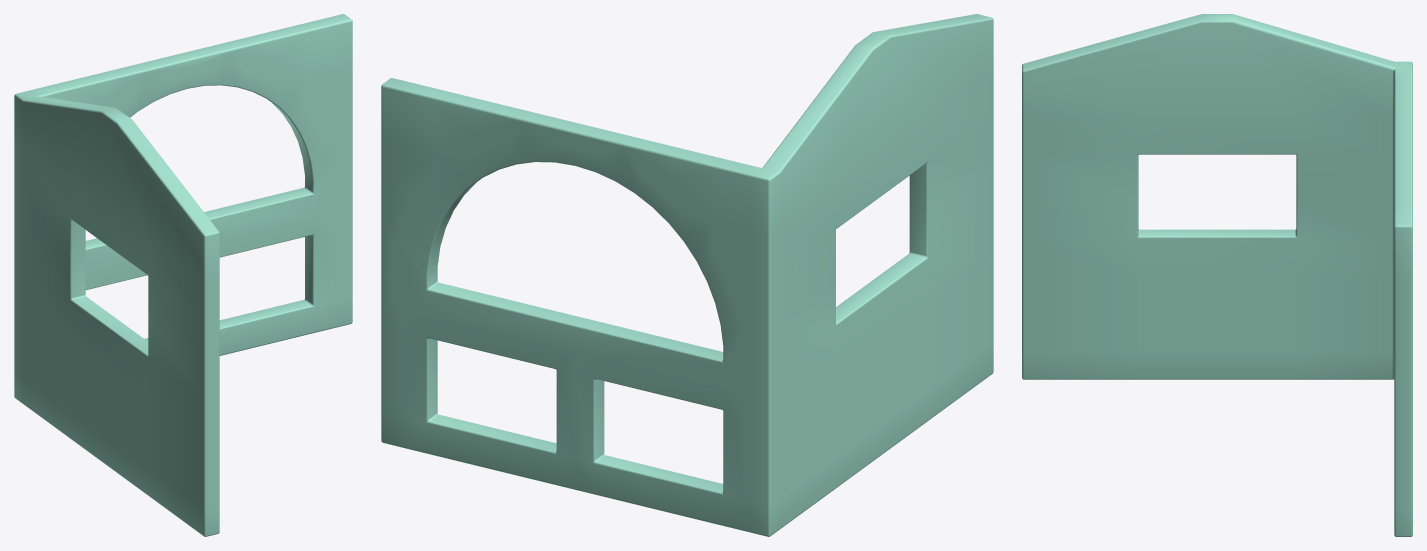
File: walls.glb
3 renders of one model, left to right at view 1: azimuth 30°, elevation 25°; view 2: azimuth 150°, elevation 25°; view 3: azimuth 270°, elevation 25°, orthographic. The views are drawn at different scales.
Visible parts, largest first — view 1: House_Walls; view 2: House_Walls; view 3: House_Walls.
Boxes of the visible parts, x1,y1,x2,y2 form: House_Walls: (14,14,352,536); House_Walls: (381,14,993,536); House_Walls: (1022,14,1412,536).
Bounding box in the file's own units: 41.98 × 42.6 × 42.
